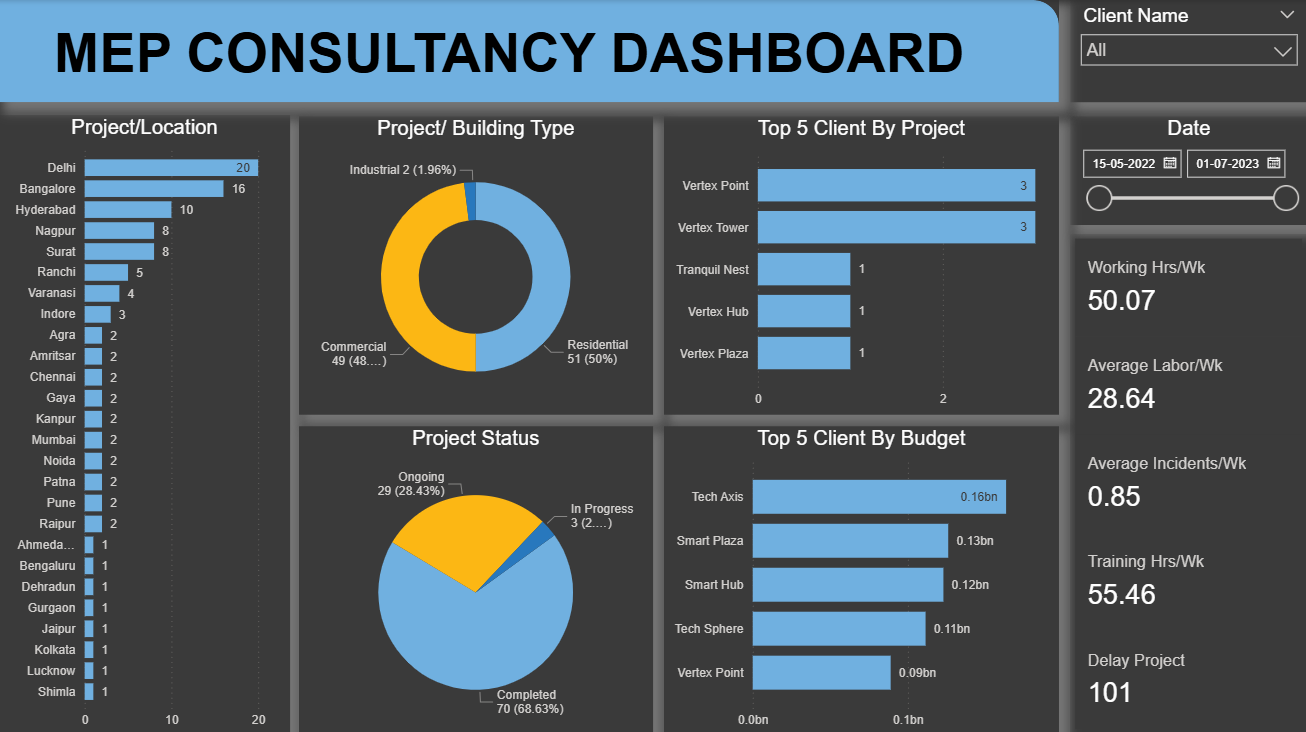

What the dashboard file says about the page in this screenshot:
{"tool":"powerbi","page":{"name":"Page 1","canvas":[1280,720],"ordinal":0},"visuals":[{"type":"barChart","title":"Project/Location ","fields":{"Category":["Sheet1 (2).Location"],"Y":["CountNonNull(Sheet1 (2).Project ID)"]},"box":[0,112.5,284.9,607.7],"z":0},{"type":"donutChart","title":"Project/ Building Type","fields":{"Category":["Sheet1 (2).Type"],"Y":["CountNonNull(Sheet1 (2).Project ID)"]},"box":[293.5,113.7,346.1,292.3],"z":1000},{"type":"slicer","title":"Date","fields":{"Values":["Sheet1 (2).Start Date"]},"box":[1048,113.7,232.3,106.4],"z":2000},{"type":"pieChart","title":"Project Status","fields":{"Category":["Sheet1 (2).Status"],"Y":["CountNonNull(Sheet1 (2).Project ID)"]},"box":[293.5,417,346.1,303.3],"z":3000},{"type":"barChart","title":"Top 5 Client By Project","fields":{"Category":["Sheet1 (2).Project Name"],"Y":["CountNonNull(Sheet1 (2).Project Name)"]},"box":[650.5,113.7,386.4,292.3],"z":4000},{"type":"barChart","title":"Top 5 Client By Budget","fields":{"Category":["Sheet1 (2).Project Name"],"Y":["Sum(Sheet1 (2).Budget (INR))"]},"box":[650.5,417,386.4,303.3],"z":5000},{"type":"cardVisual","fields":{"Data":["Avg(Sheet1 (2).Hrs/Wk)","Avg(Sheet1 (2).Labor)","Avg(Sheet1 (2).Incidents)","Avg(Sheet1 (2).Training Hrs)","CountNonNull(Sheet1 (2).Delay)"]},"box":[1048,228.7,232.3,491.6],"z":6000},{"type":"slicer","fields":{"Values":["Sheet1 (2).Client Name"]},"box":[1047.7,0,232.6,100],"z":6001},{"type":"shape","box":[0,0,1037,100.3],"z":6002},{"type":"textbox","box":[48.9,17.1,988,128.4],"z":6003}]}

Visuals, with their boxes in screenshot pixels (x1, y1, x2, y2), scaled from the page's 1280x720 canvas onto the 1306x732 screenshot:
"Project/Location " barChart: [left=0, top=114, right=291, bottom=731]
"Project/ Building Type" donutChart: [left=299, top=116, right=653, bottom=413]
"Date" slicer: [left=1069, top=116, right=1305, bottom=224]
"Project Status" pieChart: [left=299, top=424, right=653, bottom=731]
"Top 5 Client By Project" barChart: [left=664, top=116, right=1058, bottom=413]
"Top 5 Client By Budget" barChart: [left=664, top=424, right=1058, bottom=731]
cardVisual - Avg(Sheet1 (2).Hrs/Wk) x Avg(Sheet1 (2).Labor): [left=1069, top=233, right=1305, bottom=731]
slicer - Sheet1 (2).Client Name: [left=1069, top=0, right=1305, bottom=102]
shape: [left=0, top=0, right=1058, bottom=102]
textbox: [left=50, top=17, right=1058, bottom=148]
